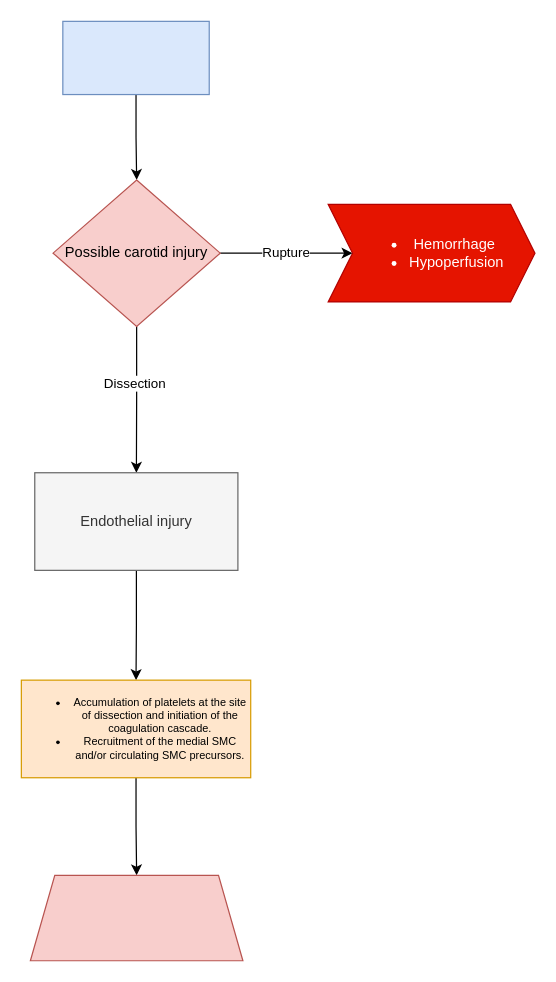
Image size: 556x982. Some labels were removed from this diagram. The shapes that lost their labels are listed below. From the top down, each one's box as (x1, y1, x2, y2) in pixels, then its label:
(62, 20, 209, 95): Neck Trauma/Compression
(29, 874, 243, 961): Formation of a thrombus. Intimal thickening
